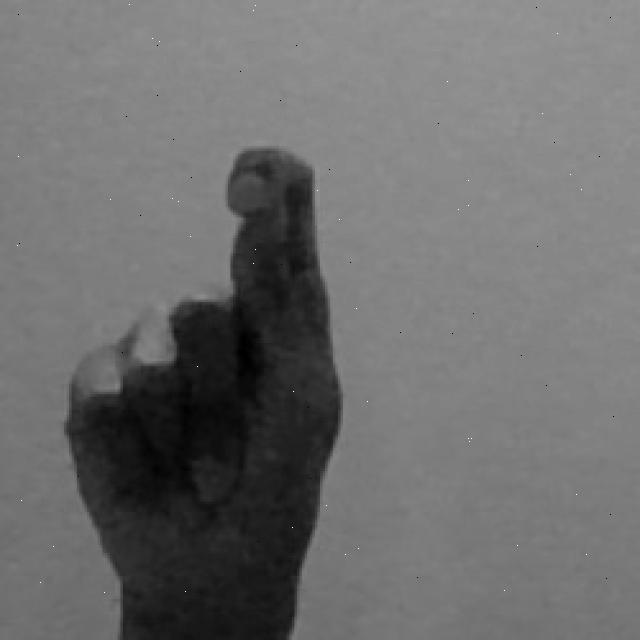T: (59, 138, 343, 640)
